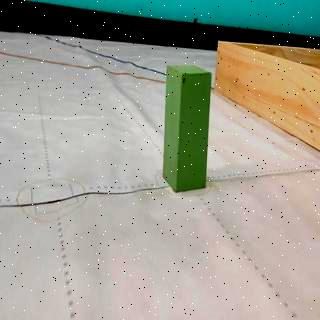greenbox: (162, 62, 212, 192)
